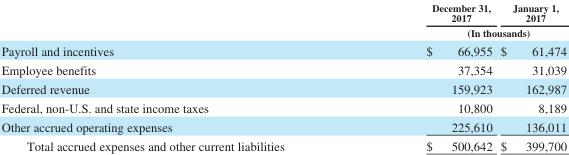table: (0, 1, 566, 152)
table column: (0, 1, 354, 152), (354, 1, 495, 152), (495, 1, 566, 152)
table column header: (0, 1, 566, 40)
table row: (0, 1, 566, 24), (0, 40, 566, 60), (0, 60, 566, 79), (0, 97, 566, 116), (0, 116, 566, 135), (0, 79, 566, 97), (0, 135, 566, 152), (0, 24, 566, 40)
table spanning cell: (354, 24, 566, 40)
